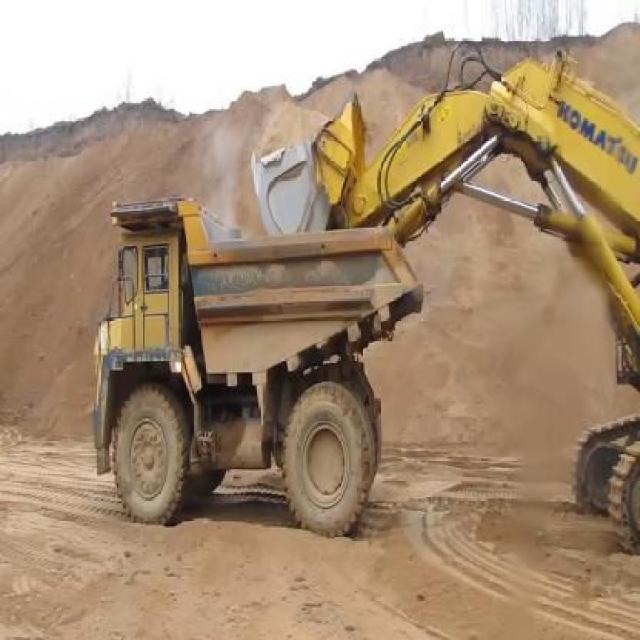dump_truck: (90, 193, 424, 539)
excavator: (250, 38, 639, 557)
